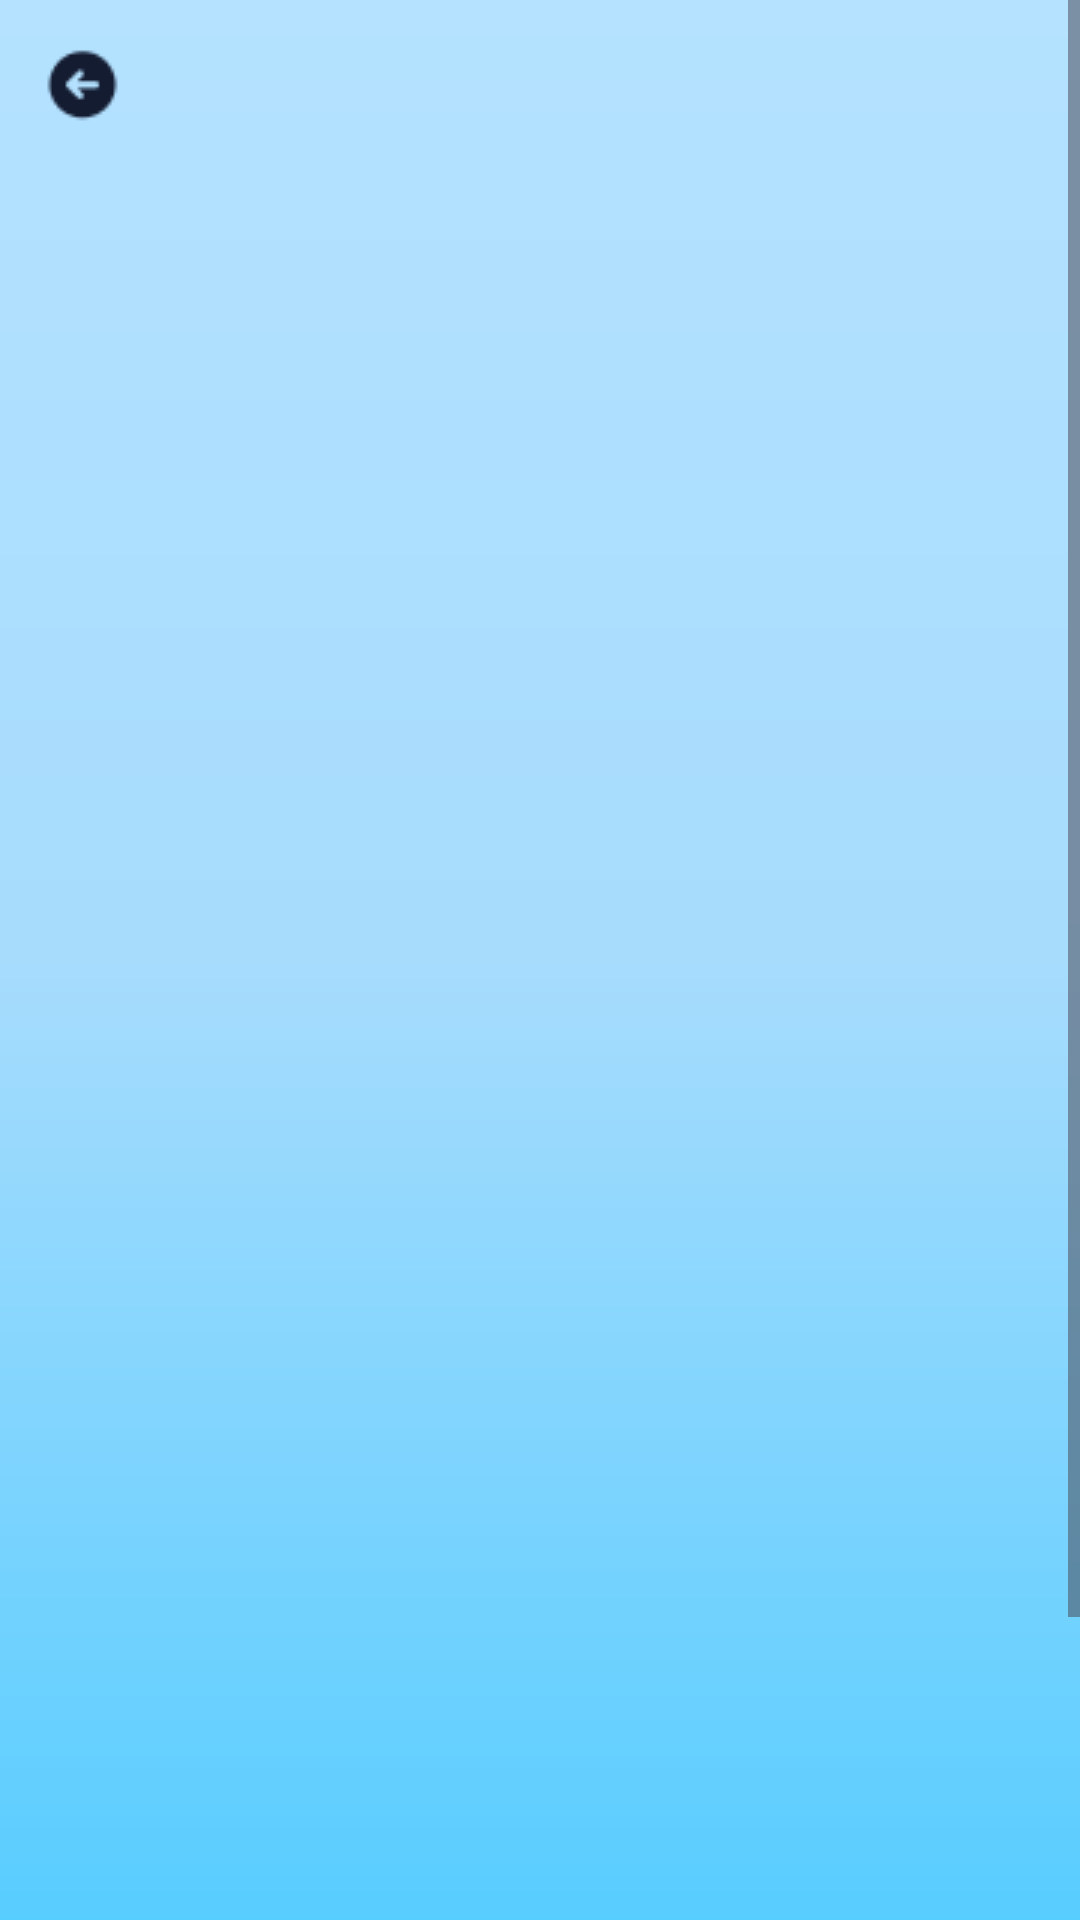

Icon bounding boxes for this 1080w x 1920h phone screenshot, format [x1, y1, x2, y2]:
back: [47, 50, 118, 120]
